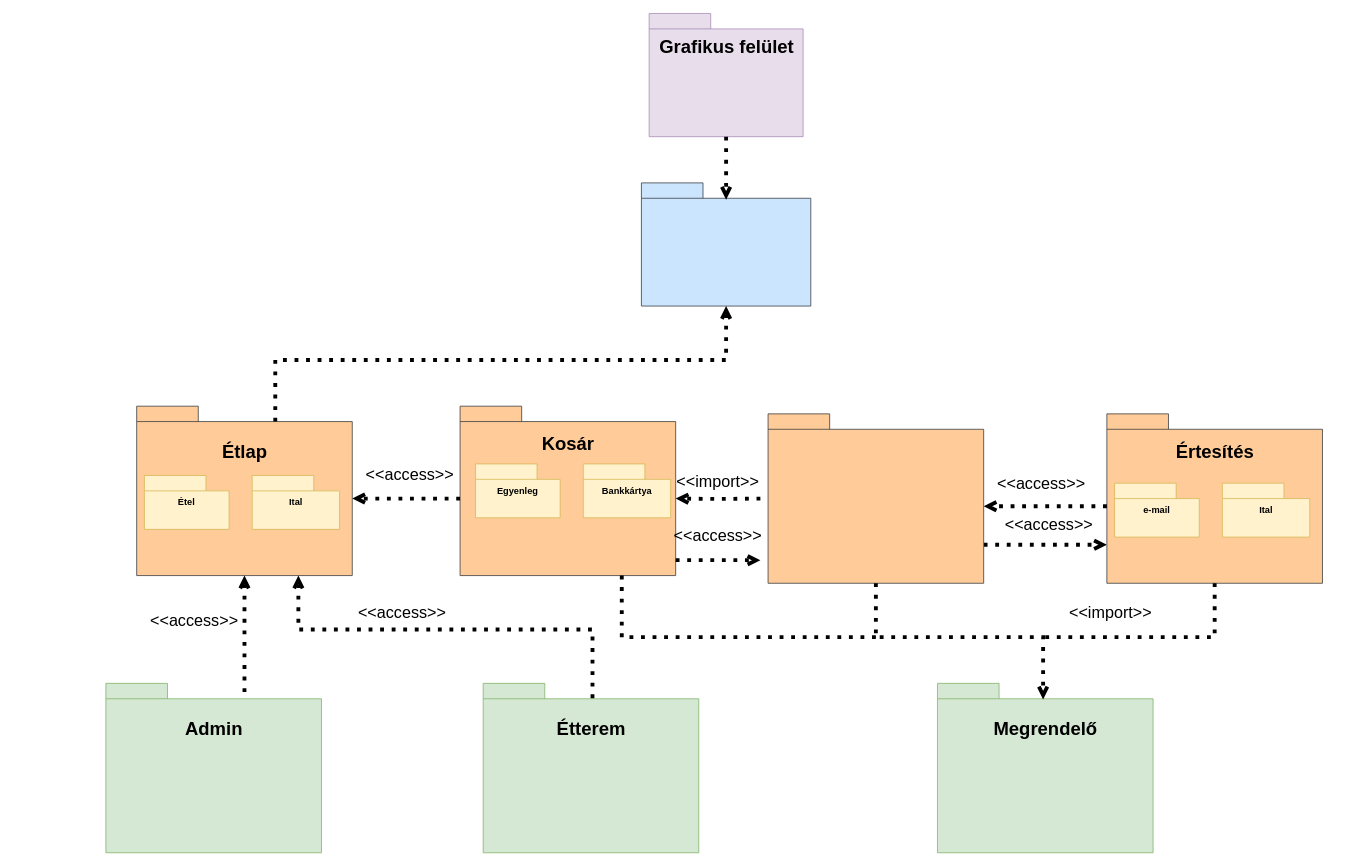
This 1351x866 diagram has some shape labels left out. The centre of each missing label's shape, as x and y in pixels:
adatBázisKezelő: [726,244]
Fizetés: [875,498]
